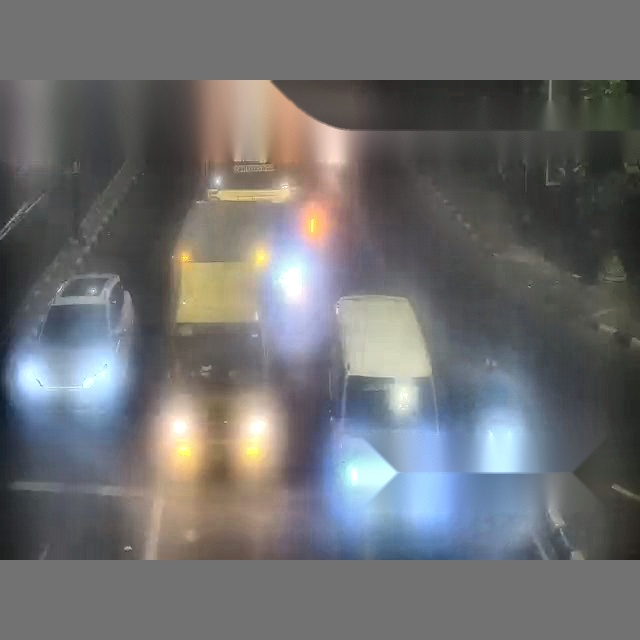Bis: (319, 292, 640, 557)
Motor: (302, 199, 328, 250)
